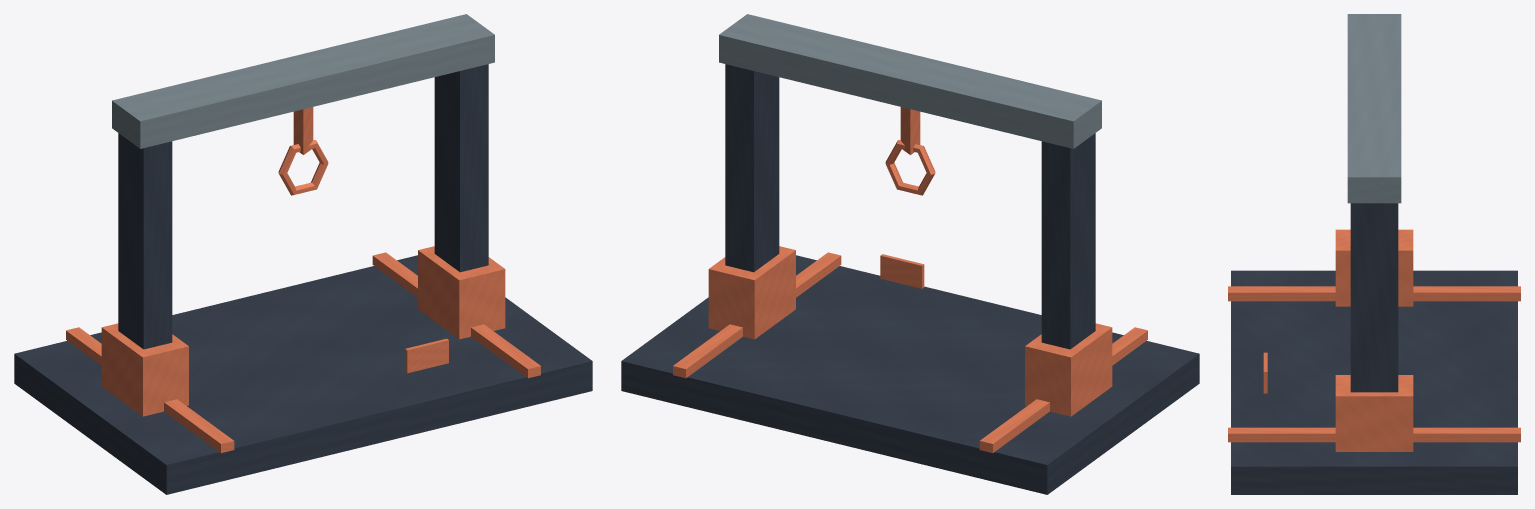
Rendered from atlas100-s027-a06.lod2.glb.
The picture shows the model from 3 angles, left to right: view 1: azimuth 30°, elevation 25°; view 2: azimuth 150°, elevation 25°; view 3: azimuth 270°, elevation 25°; orthographic projection. The views are drawn at different scales.
Visible parts, largest first — view 1: atlas100-s027-a06:part-000, atlas100-s027-a06:part-007, atlas100-s027-a06:part-003, atlas100-s027-a06:part-005, atlas100-s027-a06:part-006, atlas100-s027-a06:part-004, atlas100-s027-a06:part-002, atlas100-s027-a06:part-001, atlas100-s027-a06:part-010, atlas100-s027-a06:part-009, atlas100-s027-a06:part-008; view 2: atlas100-s027-a06:part-000, atlas100-s027-a06:part-007, atlas100-s027-a06:part-003, atlas100-s027-a06:part-005, atlas100-s027-a06:part-006, atlas100-s027-a06:part-004, atlas100-s027-a06:part-002, atlas100-s027-a06:part-001, atlas100-s027-a06:part-010, atlas100-s027-a06:part-009, atlas100-s027-a06:part-008; view 3: atlas100-s027-a06:part-000, atlas100-s027-a06:part-007, atlas100-s027-a06:part-005, atlas100-s027-a06:part-006, atlas100-s027-a06:part-001, atlas100-s027-a06:part-002, atlas100-s027-a06:part-004.
Boxes of the visible parts, x1,y1,x2,y2 form: atlas100-s027-a06:part-000: (14,255,592,494); atlas100-s027-a06:part-007: (112,14,494,148); atlas100-s027-a06:part-003: (118,133,172,349); atlas100-s027-a06:part-005: (434,64,488,272); atlas100-s027-a06:part-006: (418,246,505,339); atlas100-s027-a06:part-004: (101,323,188,416); atlas100-s027-a06:part-002: (372,252,540,378); atlas100-s027-a06:part-001: (66,327,234,453); atlas100-s027-a06:part-010: (405,338,448,373); atlas100-s027-a06:part-009: (278,140,328,195); atlas100-s027-a06:part-008: (293,107,313,154); atlas100-s027-a06:part-000: (621,255,1199,494); atlas100-s027-a06:part-007: (719,14,1101,148); atlas100-s027-a06:part-003: (1041,133,1095,349); atlas100-s027-a06:part-005: (725,64,779,272); atlas100-s027-a06:part-006: (708,246,795,339); atlas100-s027-a06:part-004: (1025,323,1112,416); atlas100-s027-a06:part-002: (673,252,841,378); atlas100-s027-a06:part-001: (979,327,1147,453); atlas100-s027-a06:part-010: (880,254,924,288); atlas100-s027-a06:part-009: (885,140,935,195); atlas100-s027-a06:part-008: (900,107,920,154); atlas100-s027-a06:part-000: (1231,270,1517,494); atlas100-s027-a06:part-007: (1347,14,1401,203); atlas100-s027-a06:part-005: (1350,203,1398,392); atlas100-s027-a06:part-006: (1335,375,1413,451); atlas100-s027-a06:part-001: (1228,286,1520,301); atlas100-s027-a06:part-002: (1228,427,1520,442); atlas100-s027-a06:part-004: (1335,229,1413,306).
Size of the model in its own units: 3.88 by 2.78 by 2.45.
Materials: 3 (3 with a texture image).
